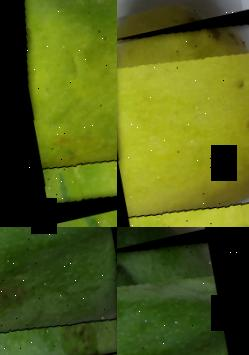PartiallyRipe: (0, 0, 117, 219)
Ripe: (117, 9, 249, 227)
Unripe: (117, 230, 249, 355), (0, 227, 117, 355)
